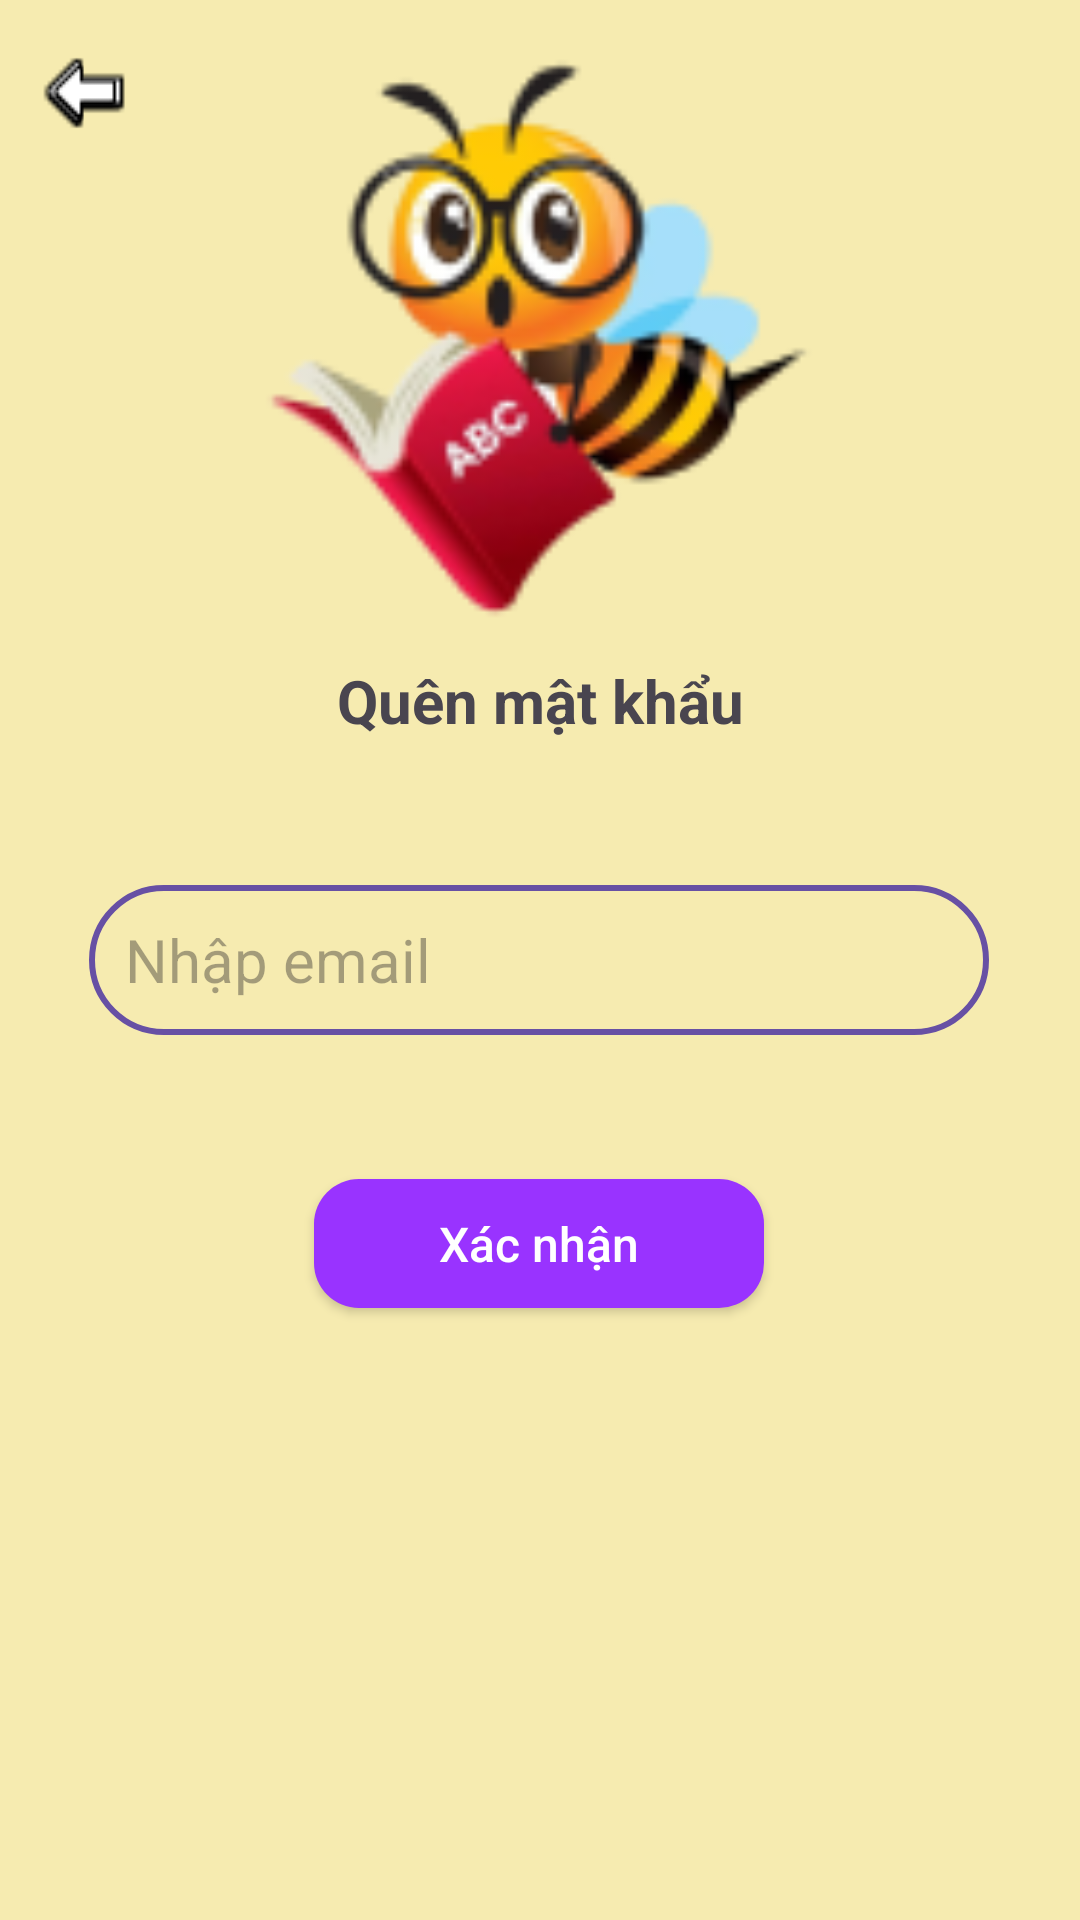

Icon click points for this 1080px×1920px phone screenshot, format (x,y):
back: (84,93)
